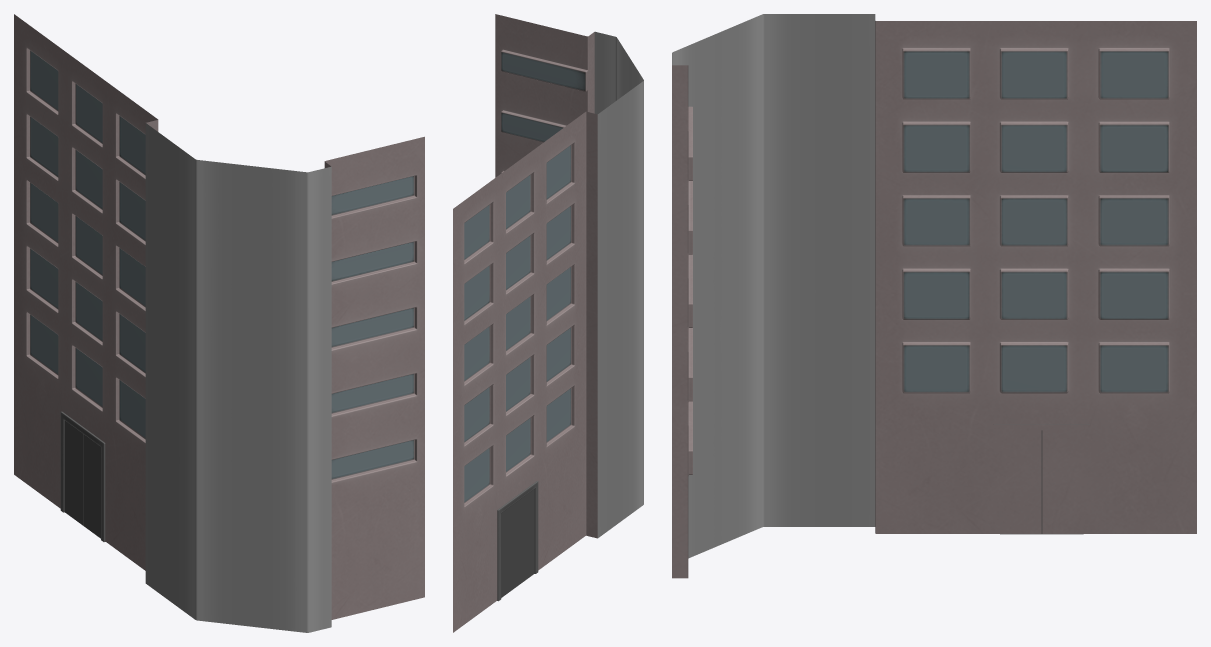
File: paulista_predio02.fbx
The picture shows the model from 3 angles, left to right: view 1: azimuth 30°, elevation 25°; view 2: azimuth 150°, elevation 25°; view 3: azimuth 270°, elevation 25°; orthographic projection. The views are drawn at different scales.
Visible parts, largest first — view 1: Paulista_Predio02, Paulista_Predio02_Grafite; view 2: Paulista_Predio02, Paulista_Predio02_Grafite; view 3: Paulista_Predio02, Paulista_Predio02_Grafite.
Boxes of the visible parts, x1,y1,x2,y2 form: Paulista_Predio02: (14, 14, 424, 619); Paulista_Predio02_Grafite: (145, 123, 331, 632); Paulista_Predio02: (453, 14, 597, 632); Paulista_Predio02_Grafite: (594, 31, 643, 538); Paulista_Predio02: (672, 21, 1196, 578); Paulista_Predio02_Grafite: (672, 14, 875, 558).
Bounding box in the file's own units: 444 × 1002 × 929.
